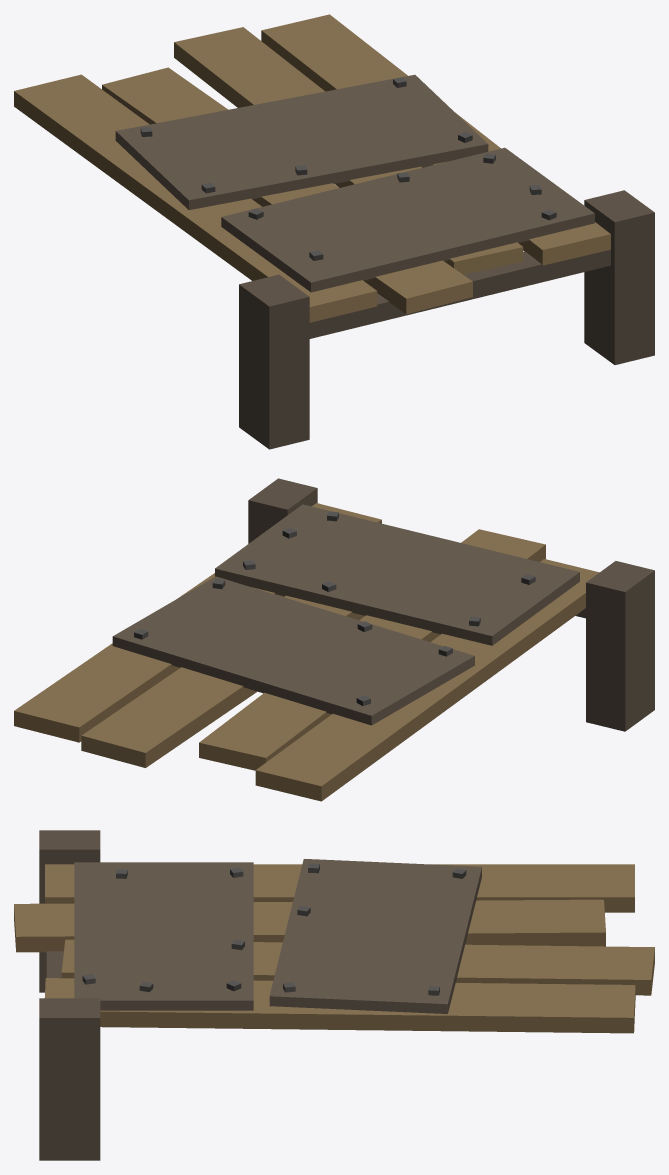
Rendered from AI_Env_Sewer_Wharf.fbx.
The picture shows the model from 3 angles, top to bottom: view 1: azimuth 30°, elevation 25°; view 2: azimuth 150°, elevation 25°; view 3: azimuth 270°, elevation 25°; orthographic projection. The views are drawn at different scales.
Visible parts, largest first — view 1: AI_Env_Sewer_Wharf; view 2: AI_Env_Sewer_Wharf; view 3: AI_Env_Sewer_Wharf.
Part boxes in pixels (bbox=[...]): AI_Env_Sewer_Wharf: bbox=[14, 14, 654, 449]; AI_Env_Sewer_Wharf: bbox=[14, 478, 654, 801]; AI_Env_Sewer_Wharf: bbox=[14, 830, 654, 1160].
Bounding box in the file's own units: 2.97 × 1.06 × 4.28.
